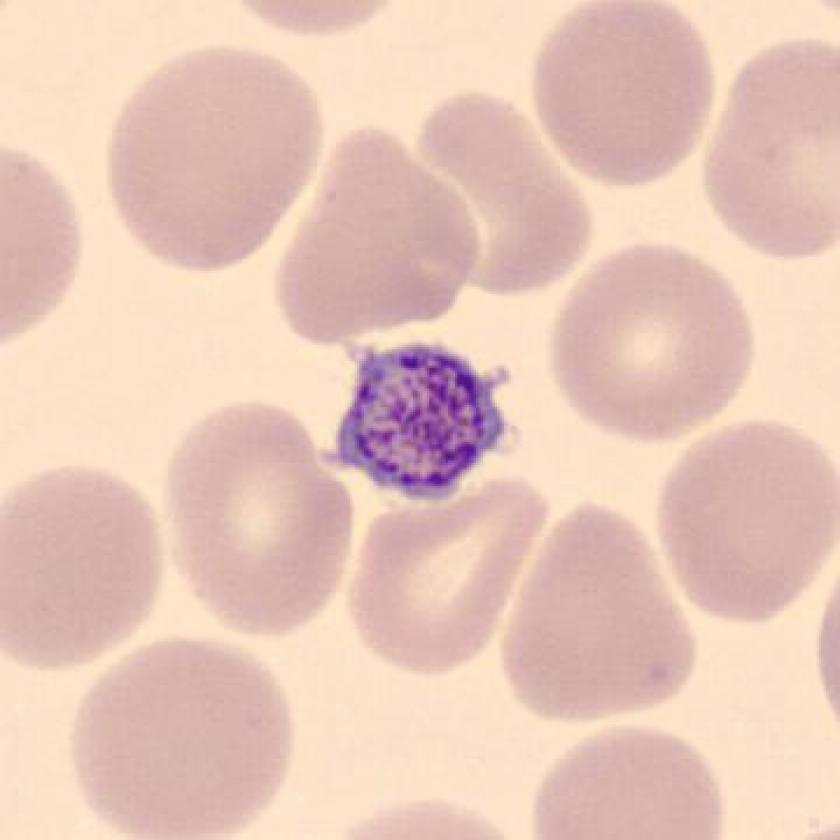platelets: (319, 330, 522, 510)
